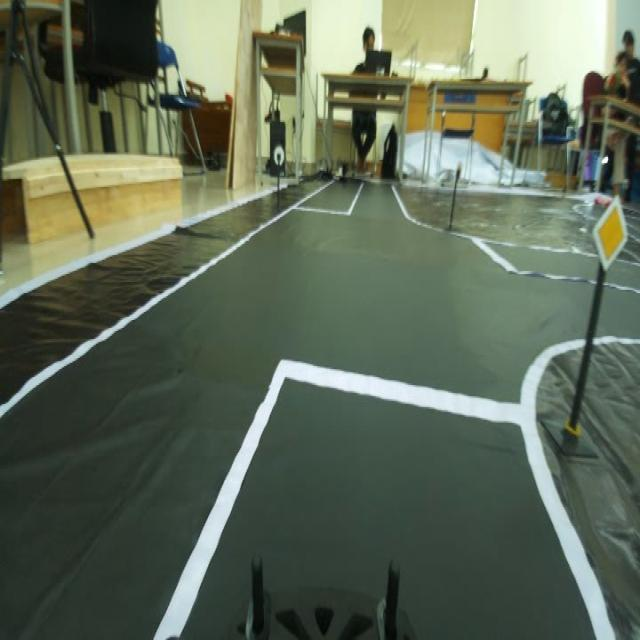priority: (589, 188, 629, 271)
